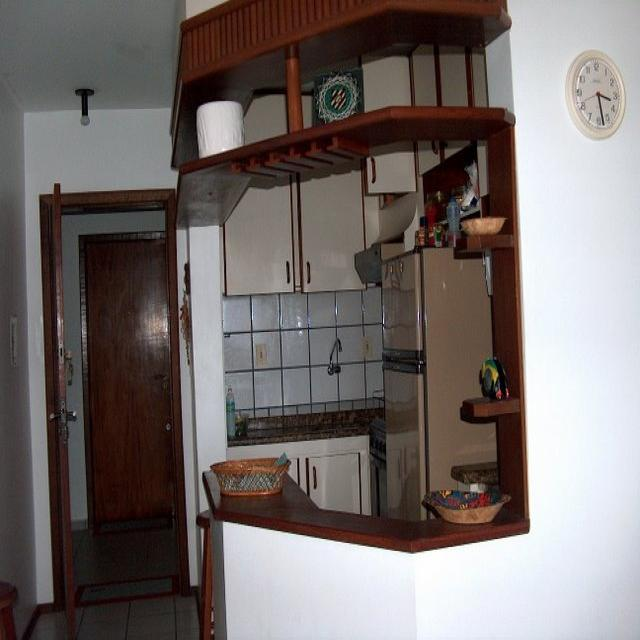2036: (202, 462, 529, 552)
Door: (86, 243, 167, 519)
Light Switch: (255, 343, 269, 362)
Stool: (197, 519, 206, 633)
Tile: (254, 295, 279, 329)
basket crop: (216, 463, 282, 494)
bottle crop: (444, 195, 460, 235)
ceiling beam: (1, 3, 179, 112)
ceramic tile: (276, 331, 308, 368)
cupboard crop: (301, 171, 370, 288)
door bars: (50, 179, 76, 635)
doormat: (73, 568, 175, 608)
fascia: (184, 12, 388, 82)
faucet handle: (327, 335, 345, 378)
fridge crop: (381, 250, 503, 519)
handle bar: (287, 259, 288, 280)
lamp crop: (66, 77, 103, 135)
paper towel dispenser: (191, 96, 249, 161)
shelf crop: (230, 97, 510, 194)
wall clock: (17, 108, 180, 603)
wall cupboard: (565, 49, 626, 142)
water bottle: (225, 382, 240, 441)
